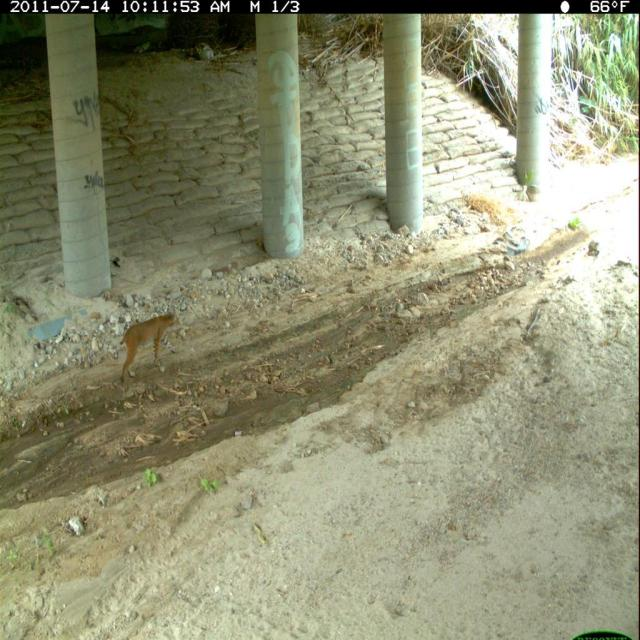bobcat: (116, 303, 184, 390)
